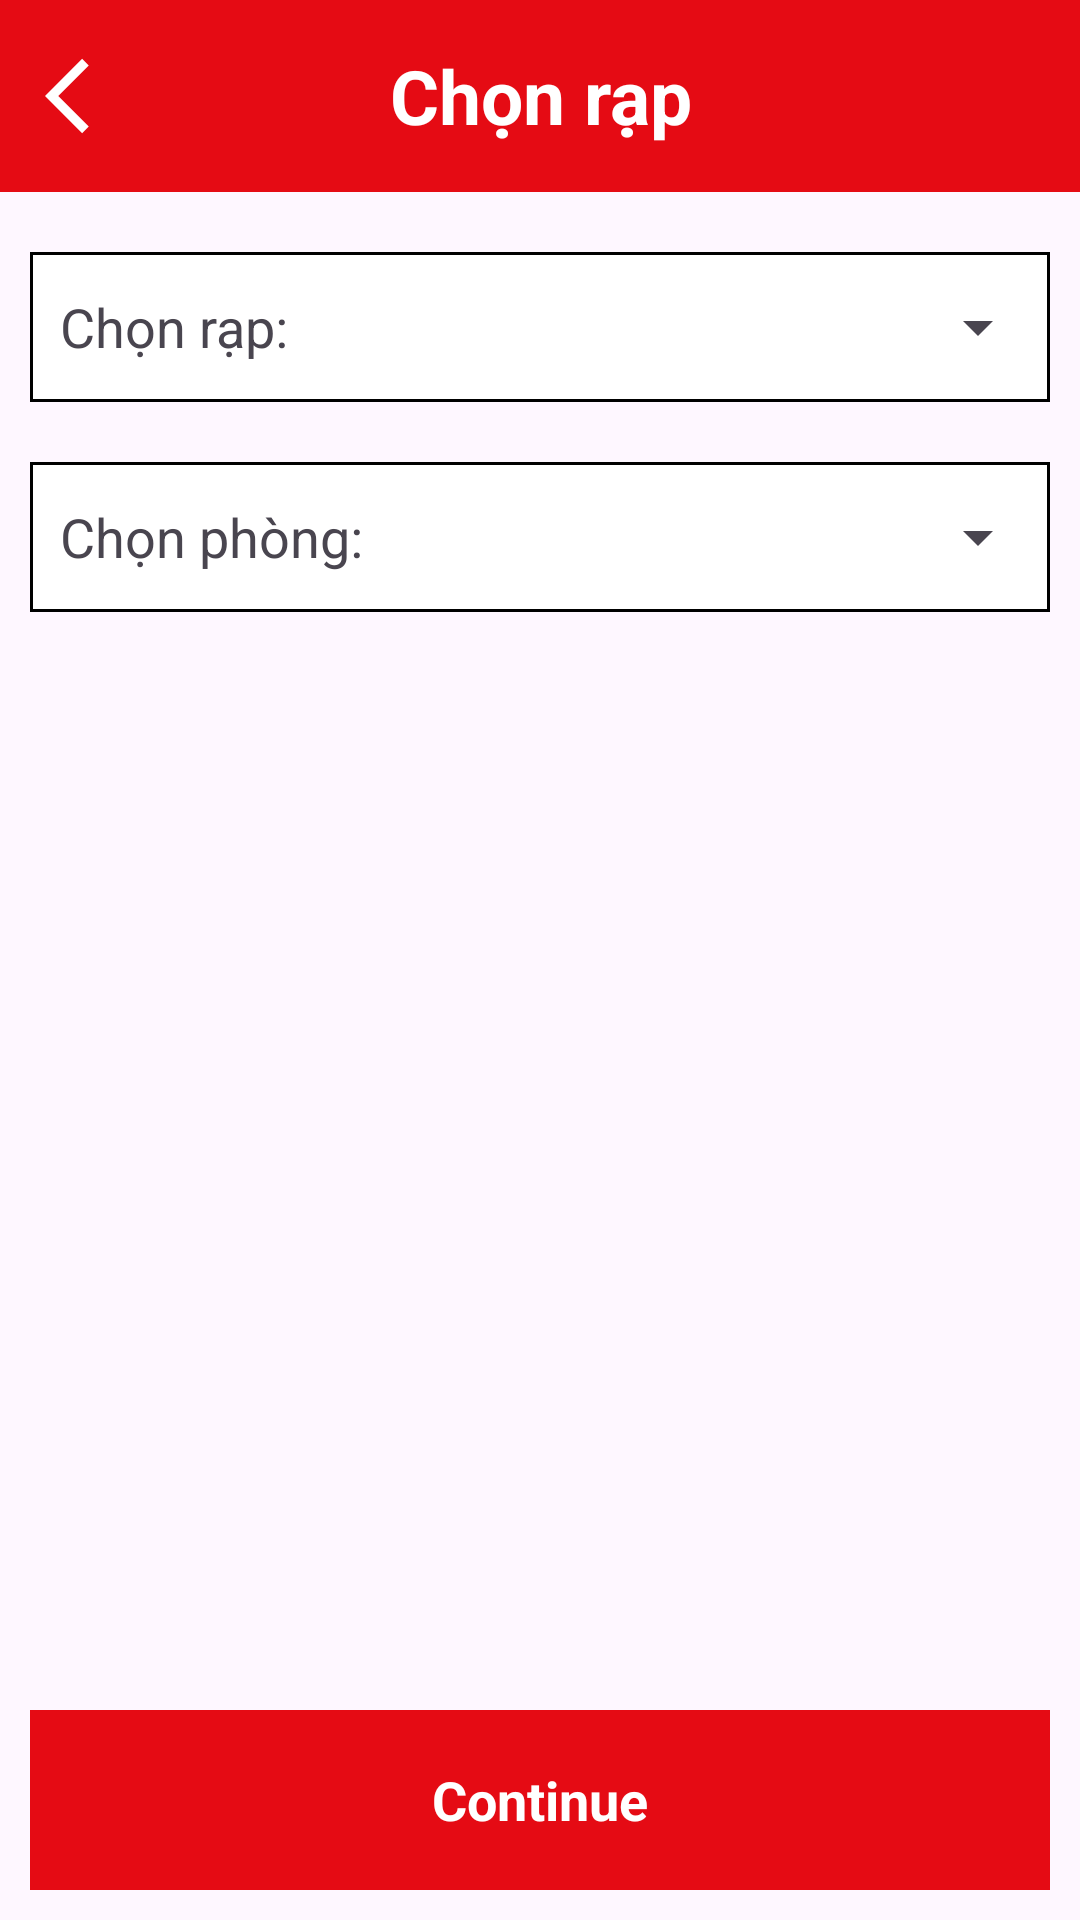

Locate icon controls on the screen. Image size 1080px×1920px, boxes as box=[x1, y1, x2, y2].
arrow back: box=[45, 59, 89, 133]
